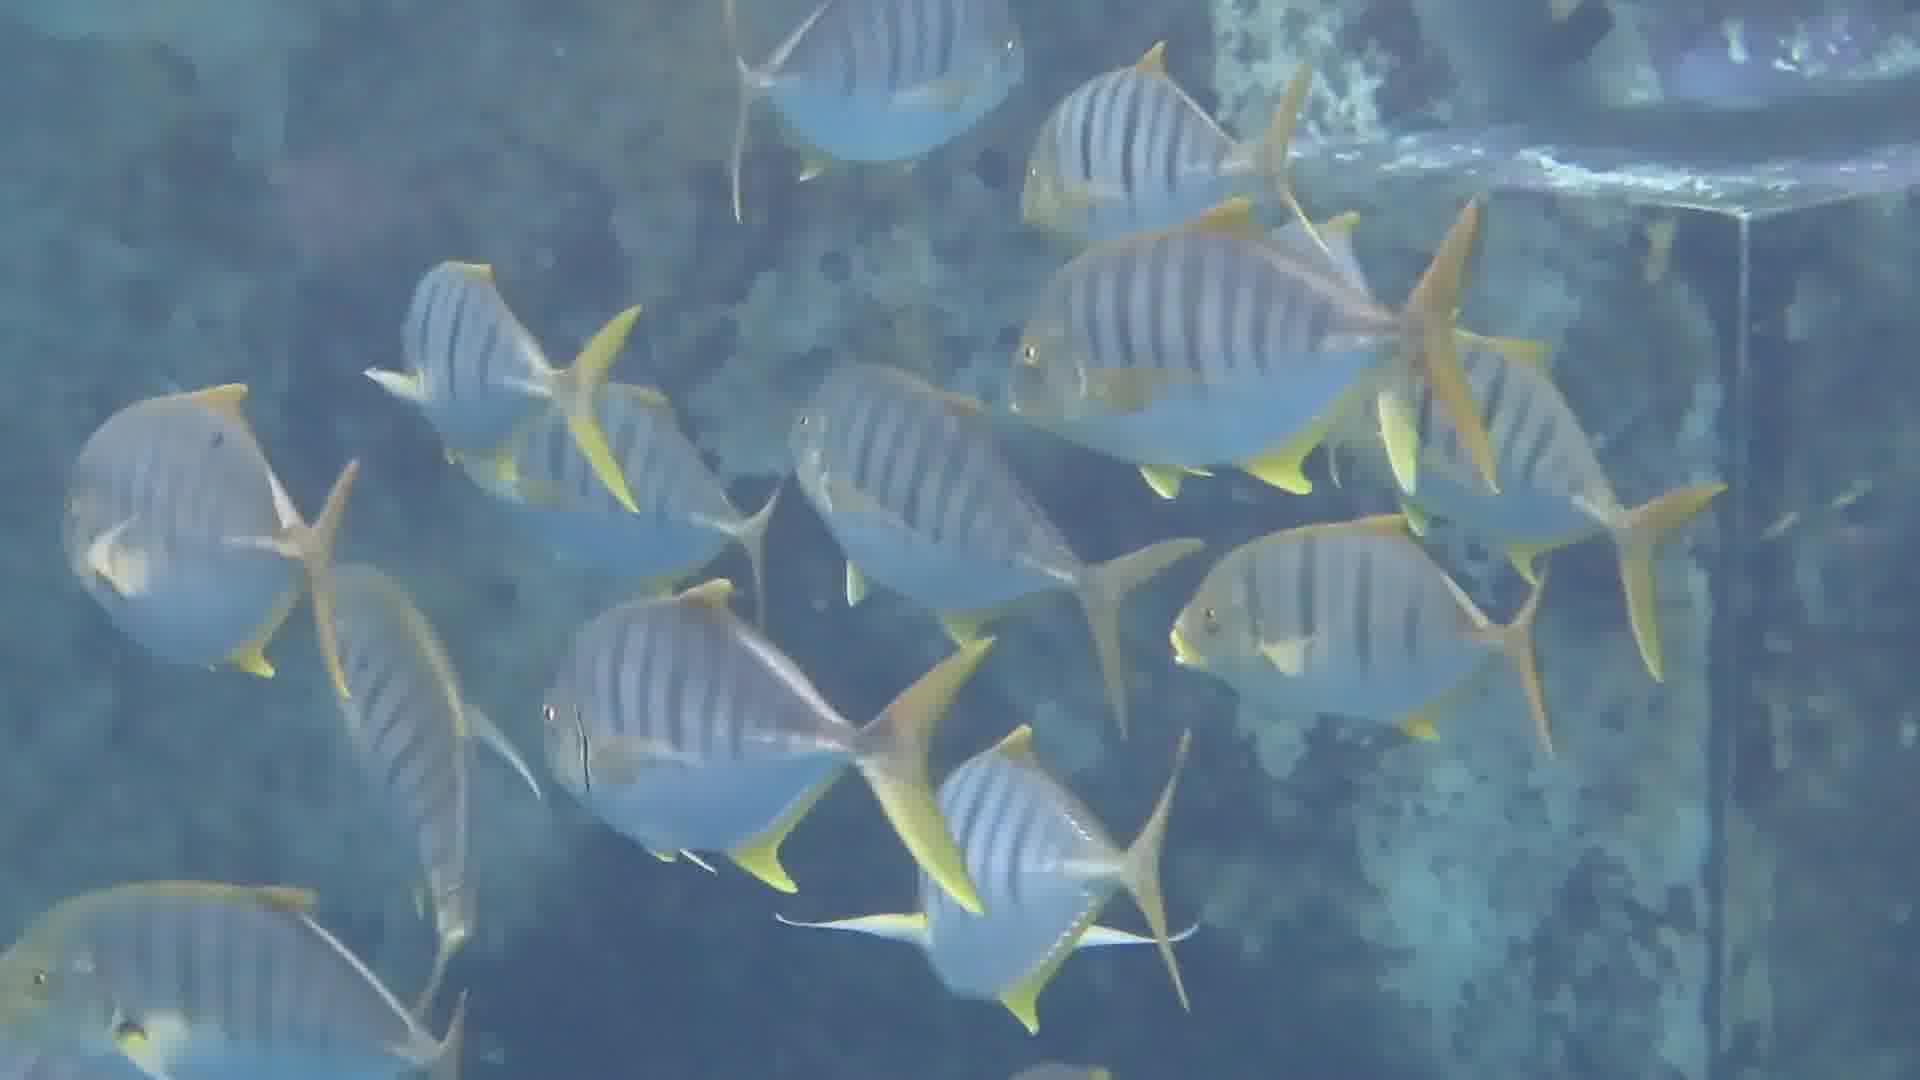Gnathanodon speciosus: (997, 152, 1523, 459), (541, 574, 953, 898), (789, 335, 1118, 709), (1160, 512, 1594, 790), (3, 872, 454, 1080), (50, 367, 361, 666), (736, 15, 1054, 206)
